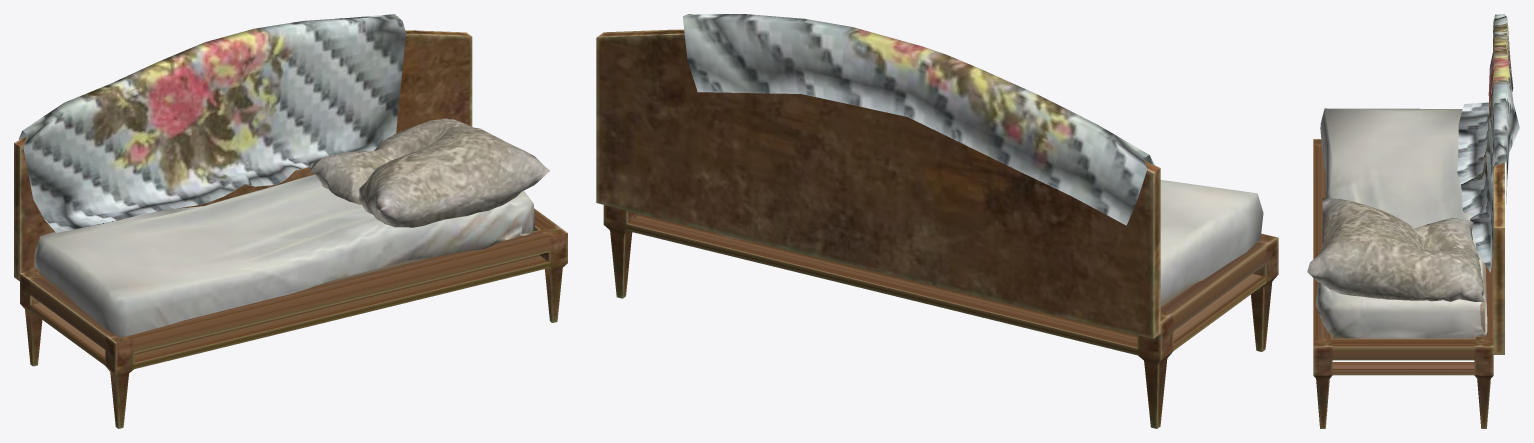
File: vintage_day_bed.glb
3 renders of one model, left to right at view 1: azimuth 30°, elevation 25°; view 2: azimuth 150°, elevation 25°; view 3: azimuth 270°, elevation 25°, orthographic. The views are drawn at different scales.
Visible parts, largest first — view 1: vintage_day_bed; view 2: vintage_day_bed; view 3: vintage_day_bed.
Boxes of the visible parts, x1,y1,x2,y2 form: vintage_day_bed: (14,14,567,428); vintage_day_bed: (596,14,1278,428); vintage_day_bed: (1307,14,1519,428).
Bounding box in the file's own units: 1.97 × 1.13 × 0.8506.
1 material, 1 textured.
